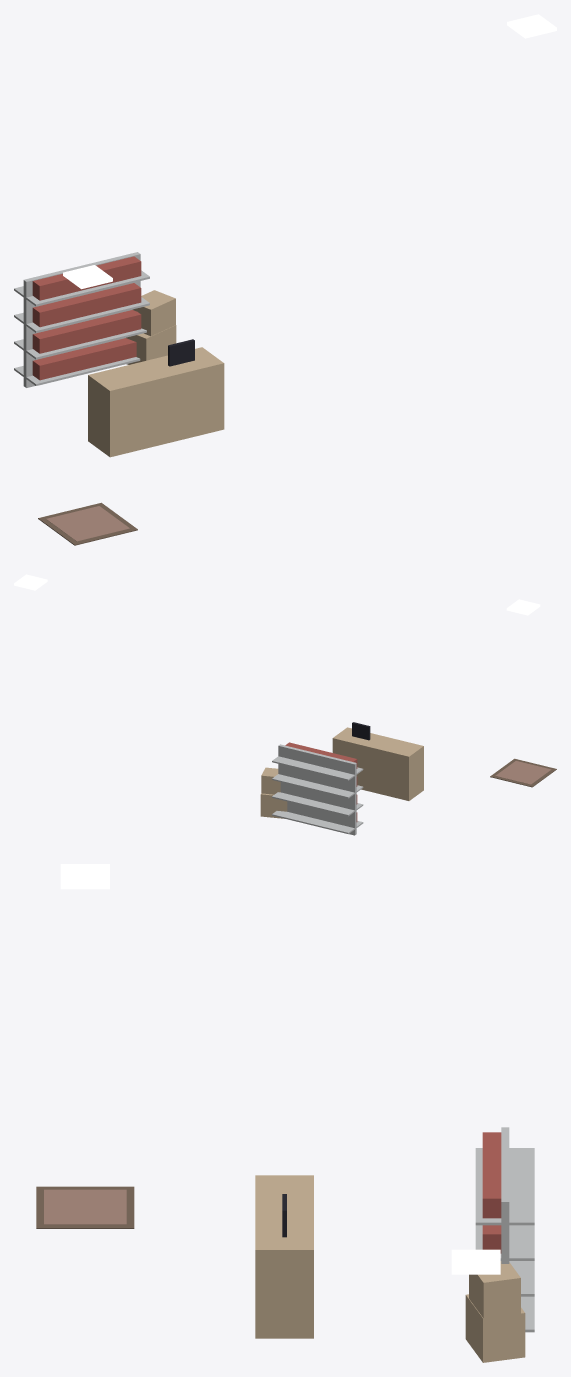
The model's file is fine-s0.glb.
3 views of the same model, one above another, from view 1: azimuth 30°, elevation 25°; view 2: azimuth 150°, elevation 25°; view 3: azimuth 270°, elevation 25° (orthographic). The views are drawn at different scales.
Visible parts, largest first — view 1: shelving.000, shop-counter.000, soft-s0, cardboard-box.000, ceiling-lamp.001, ceiling-lamp.000; view 2: shelving.000, shop-counter.000, soft-s0, cardboard-box.000, ceiling-lamp.000, ceiling-lamp.001; view 3: shop-counter.000, shelving.000, cardboard-box.000, soft-s0, ceiling-lamp.000, ceiling-lamp.001.
Boxes of the visible parts, x1,y1,x2,y2 form: shelving.000: (14,252,149,387); shop-counter.000: (88,339,224,457); soft-s0: (38,502,137,545); cardboard-box.000: (126,290,176,364); ceiling-lamp.001: (507,14,556,38); ceiling-lamp.000: (63,265,112,289); shelving.000: (272,742,363,835); shop-counter.000: (332,722,423,800); soft-s0: (490,758,556,787); cardboard-box.000: (260,767,287,818); ceiling-lamp.000: (506,599,540,615); ceiling-lamp.001: (14,574,47,590); shop-counter.000: (255,1175,313,1338); shelving.000: (475,1127,534,1332); cardboard-box.000: (465,1261,525,1362); soft-s0: (36,1186,134,1228); ceiling-lamp.000: (60,864,109,889); ceiling-lamp.001: (451,1249,500,1274).
Size of the model in its own units: 10.05 by 3.75 by 5.08.
